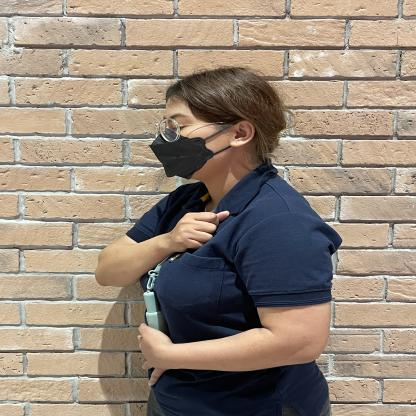Sadness: (72, 186, 270, 271)
